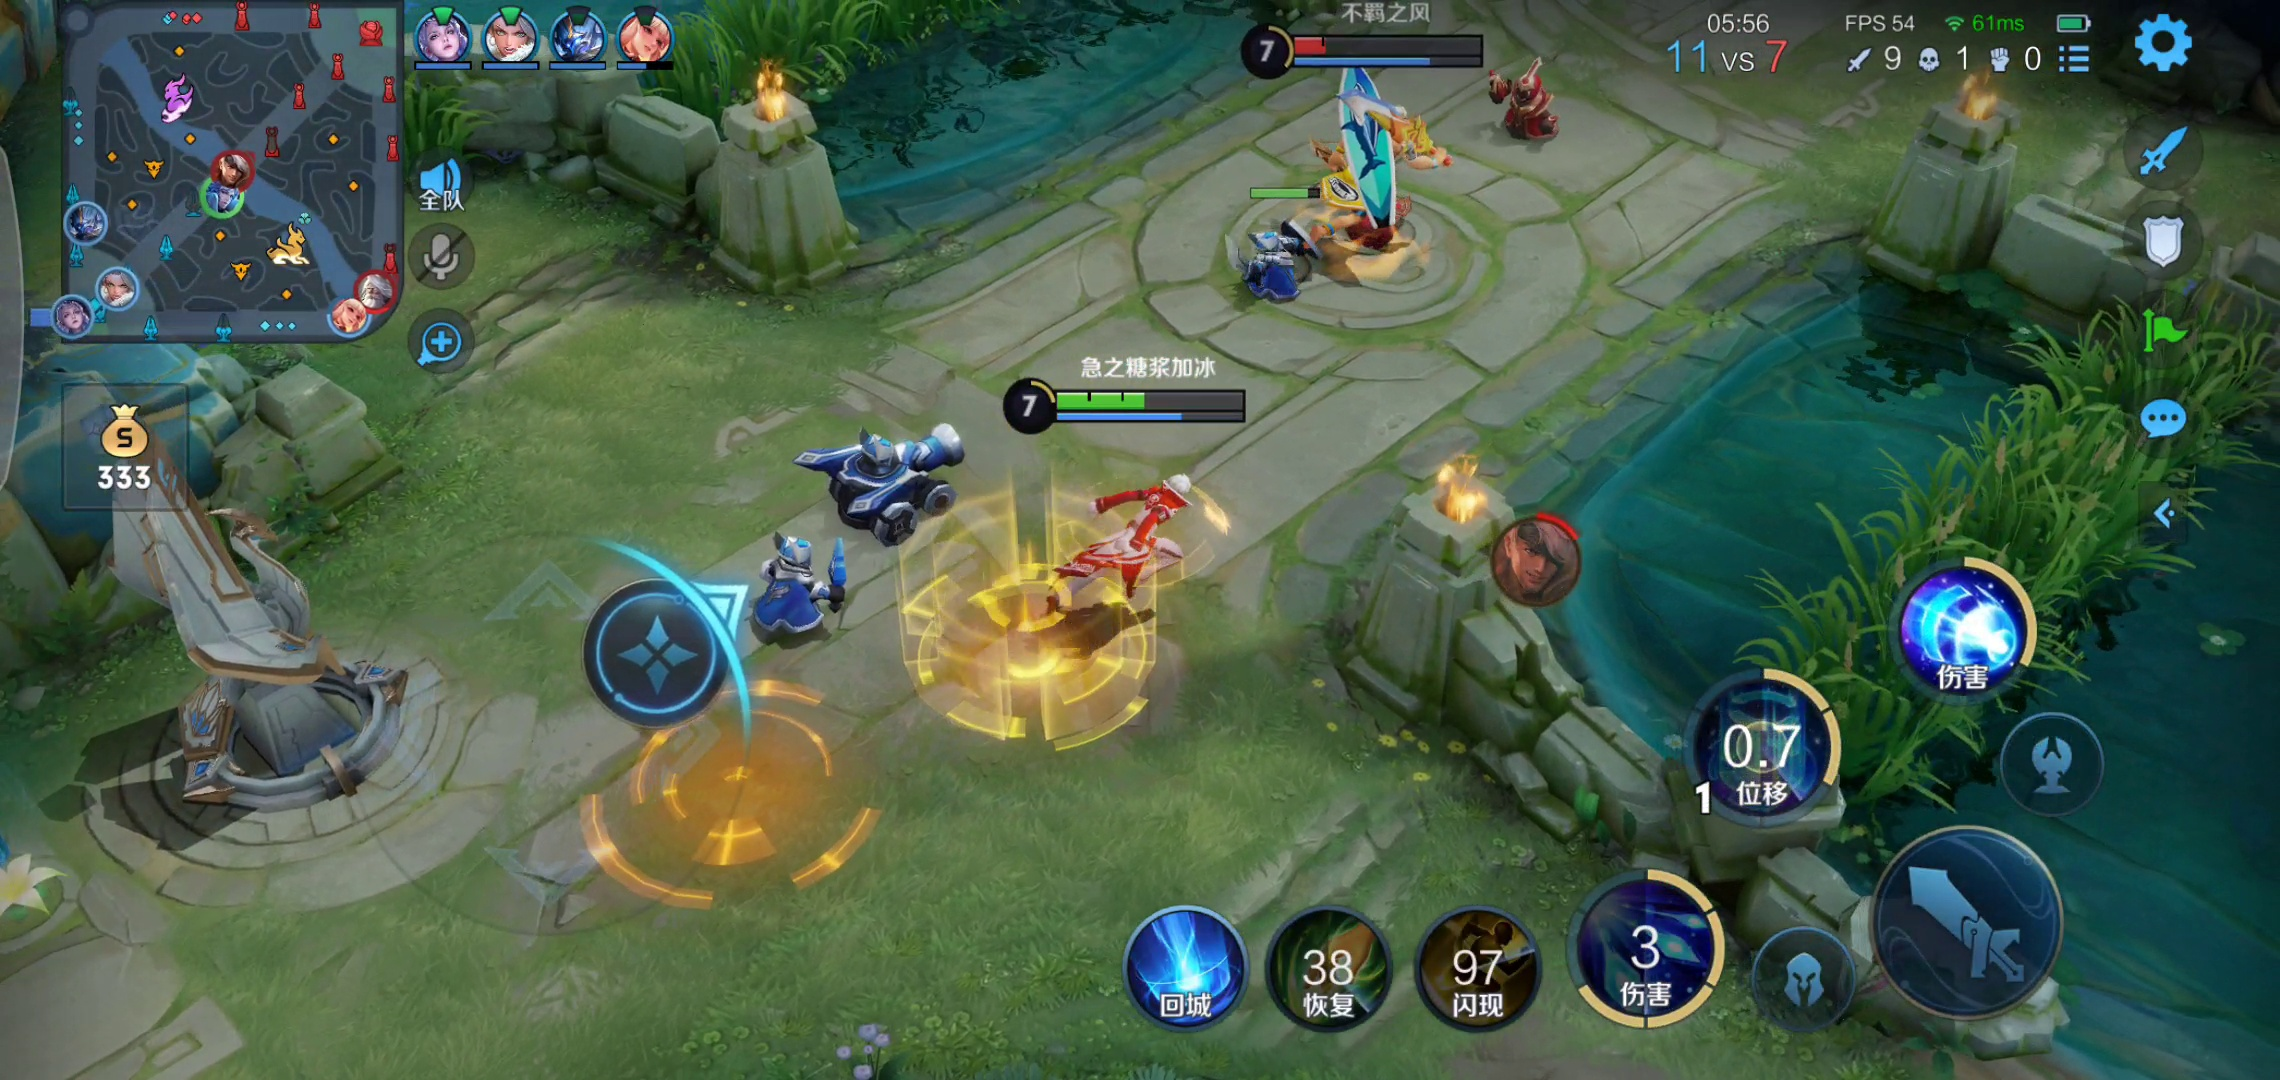grass: (1685, 307, 2265, 813), (654, 1, 957, 126)
hero: (1050, 461, 1208, 613), (1306, 100, 1425, 270)
soldier: (803, 413, 974, 548), (710, 520, 868, 663), (1219, 218, 1301, 314), (1469, 64, 1567, 142)
tower: (68, 390, 420, 815)
